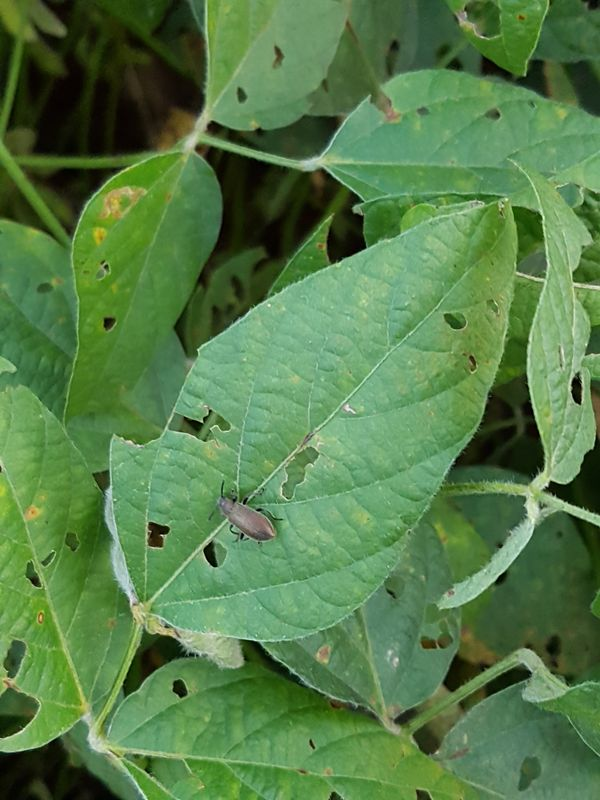Lagria_villosa: (200, 475, 289, 552)
